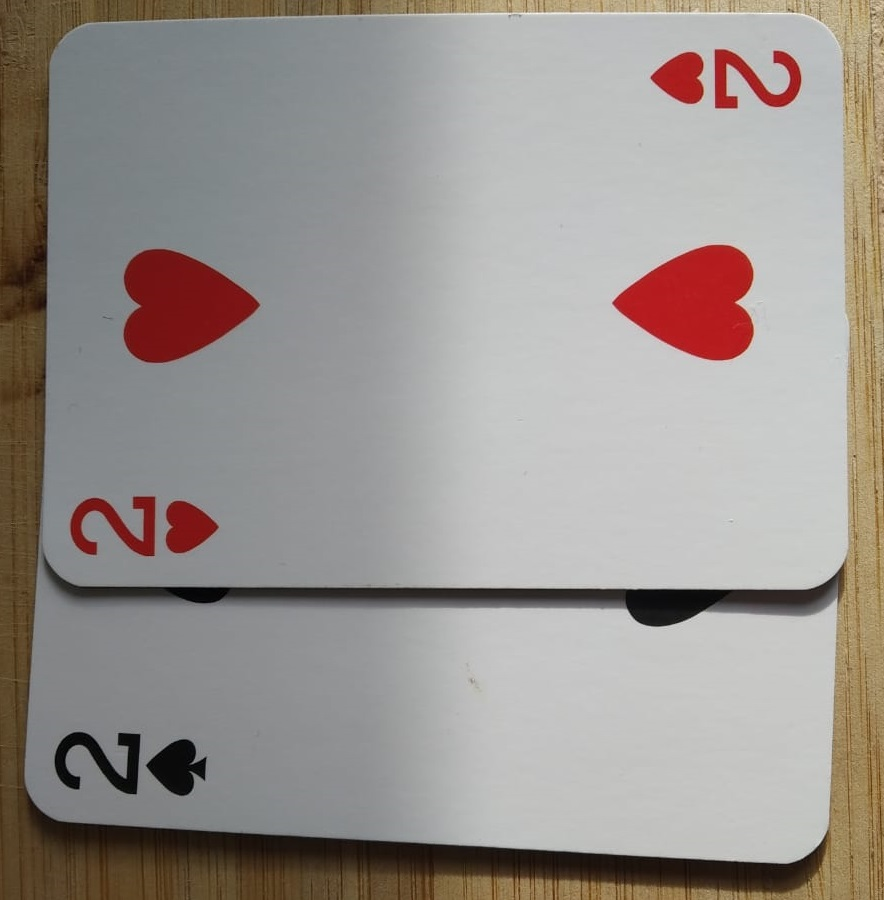two: (44, 18, 851, 600), (32, 322, 866, 871)
